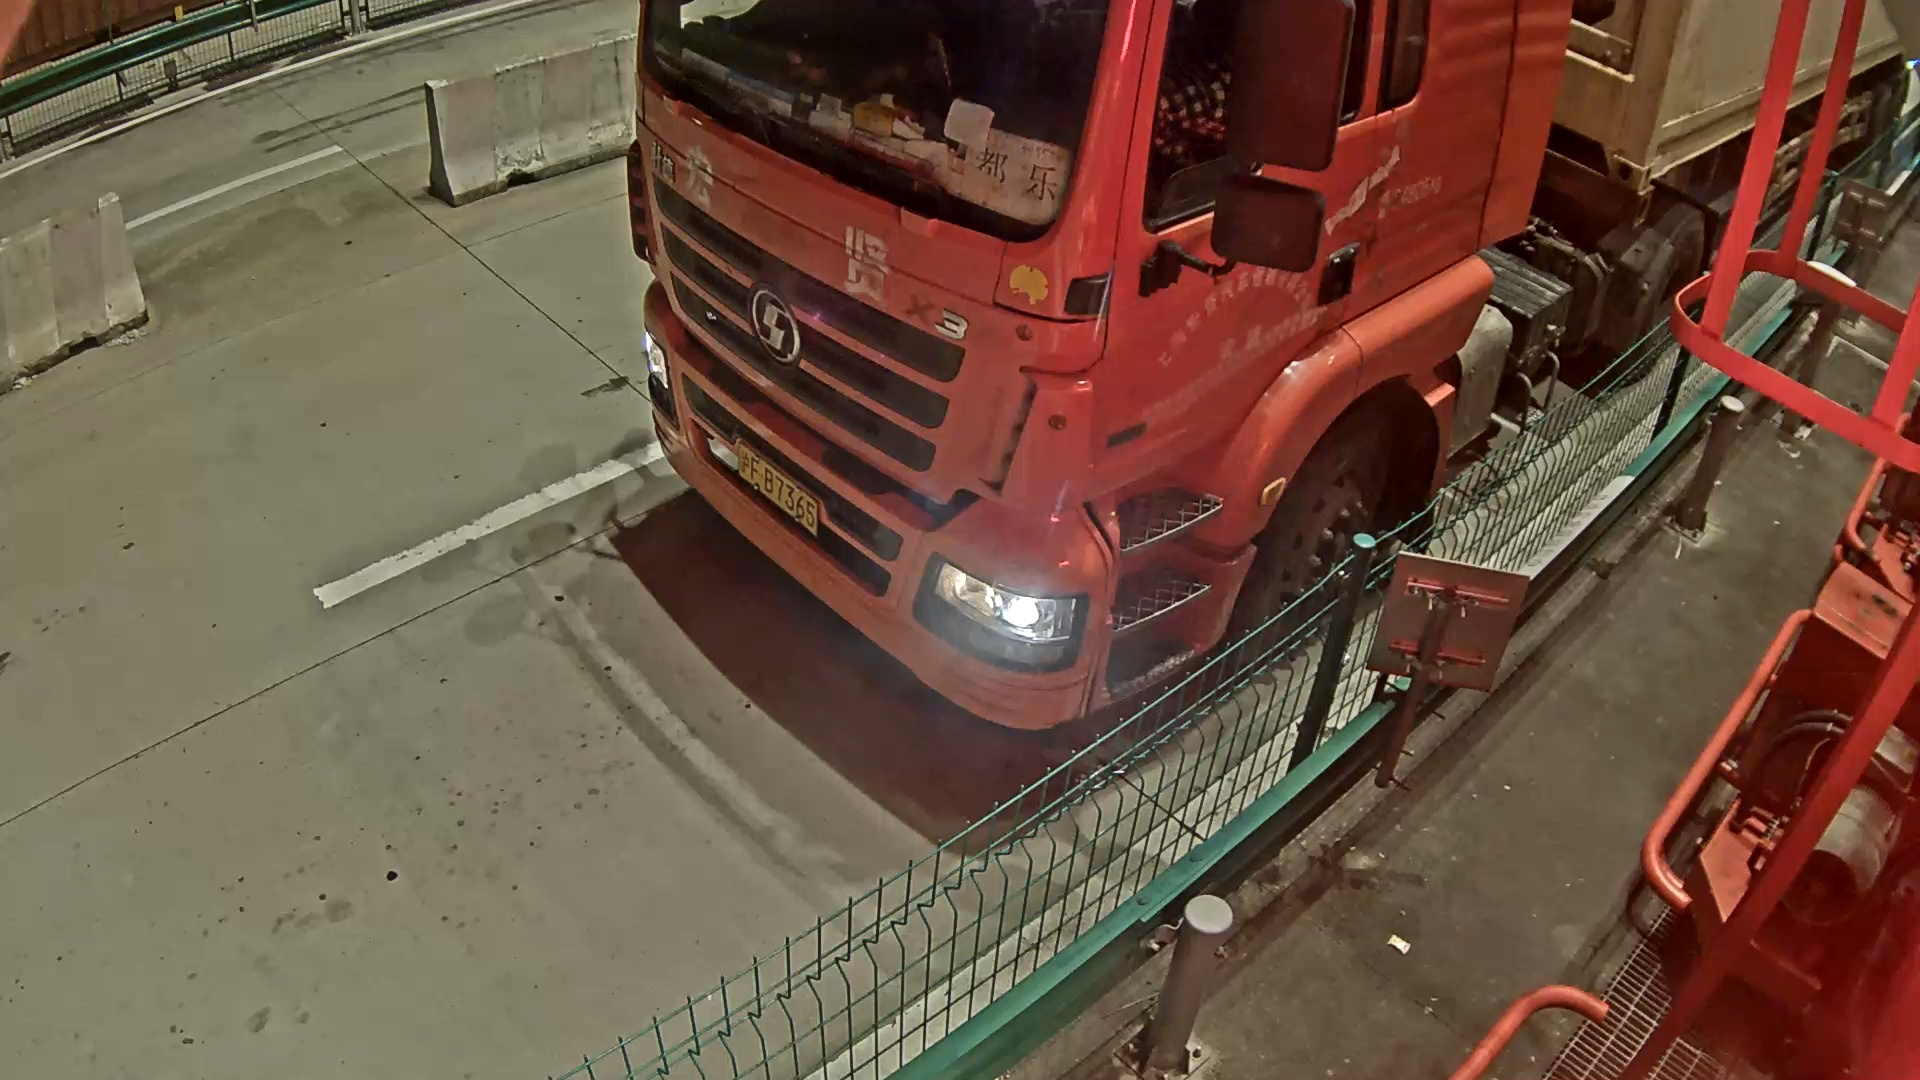head: (628, 1, 1574, 723)
plate: (734, 440, 822, 533)
